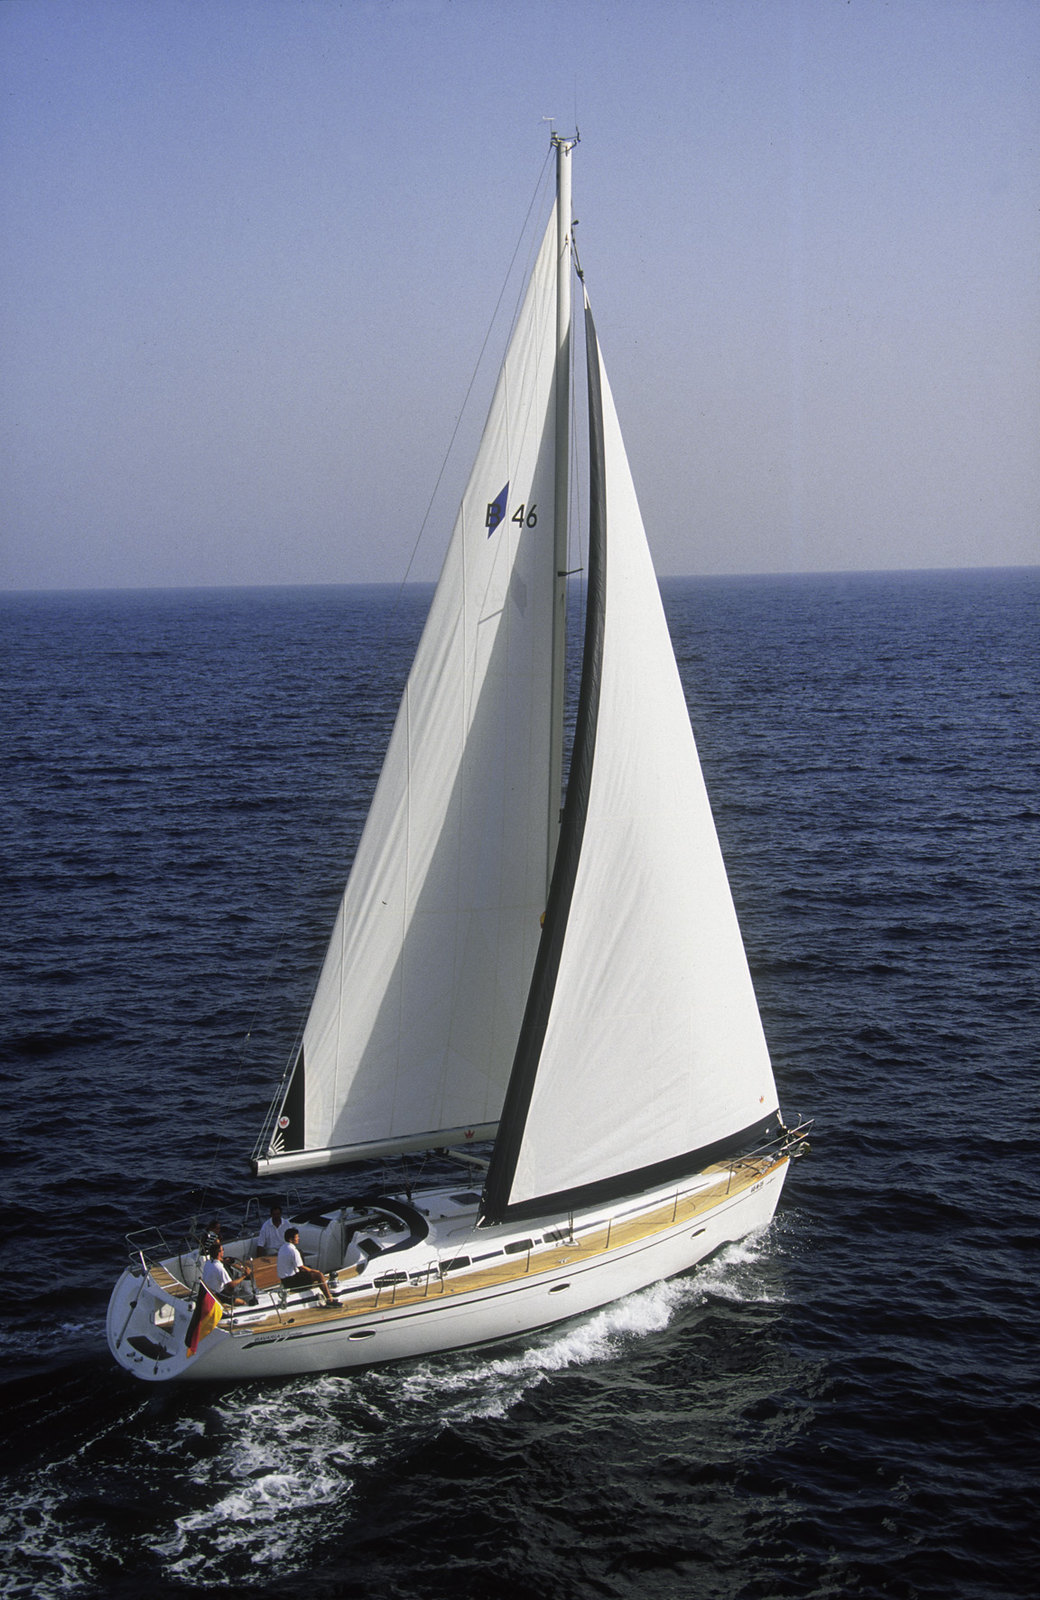boat: (98, 133, 807, 1408)
